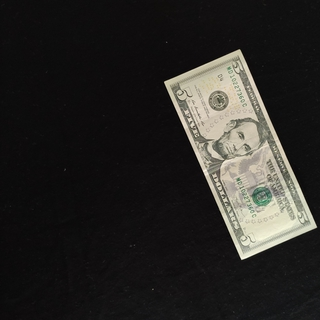5USDFront: (163, 48, 318, 260)
